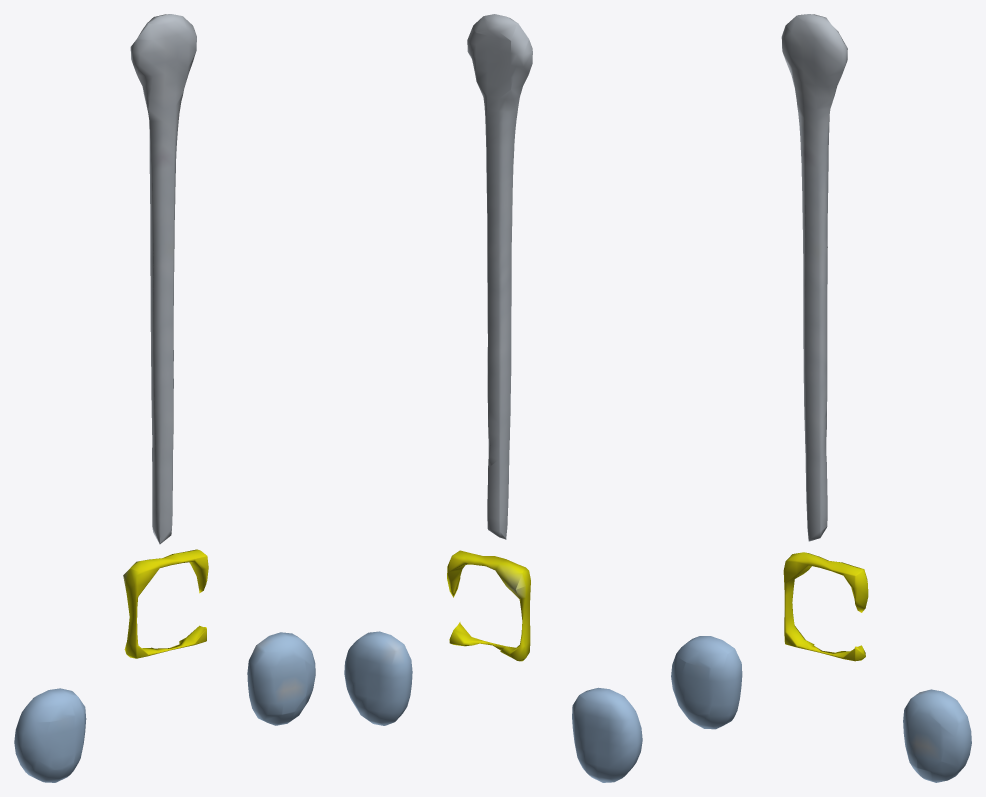
The model's file is an earphone to listen.obj.
The picture shows the model from 3 angles, left to right: view 1: azimuth 30°, elevation 25°; view 2: azimuth 150°, elevation 25°; view 3: azimuth 330°, elevation 25°; orthographic projection.
Bounding box in the file's own units: 0.4125 × 0.9913 × 0.0521.
